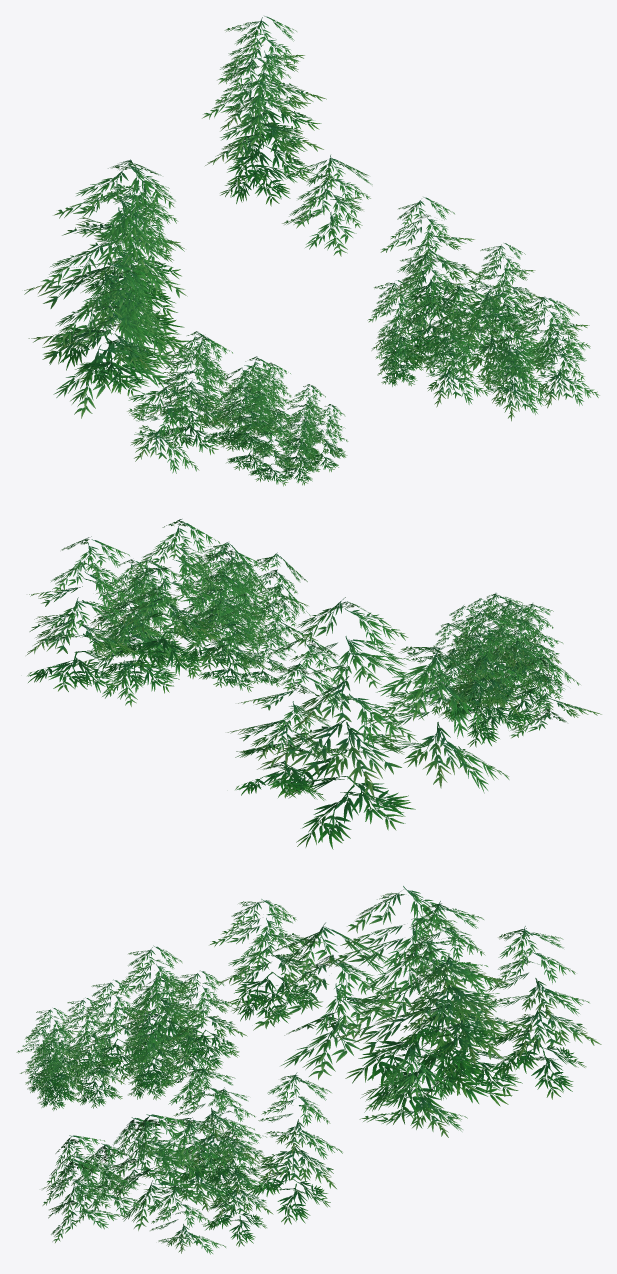
Rendered from Area_01_4.fbx.
3 renders of one model, top to bottom at view 1: azimuth 30°, elevation 25°; view 2: azimuth 150°, elevation 25°; view 3: azimuth 270°, elevation 25°, orthographic. The views are drawn at different scales.
Visible parts, largest first — view 1: Area_01_4; view 2: Area_01_4; view 3: Area_01_4.
Part boxes in pixels (x1,y1,x2,y2): Area_01_4: (24,16,599,486); Area_01_4: (26,519,601,849); Area_01_4: (16,886,601,1254).
Size of the model in its own units: 4500 by 2417 by 4543.
